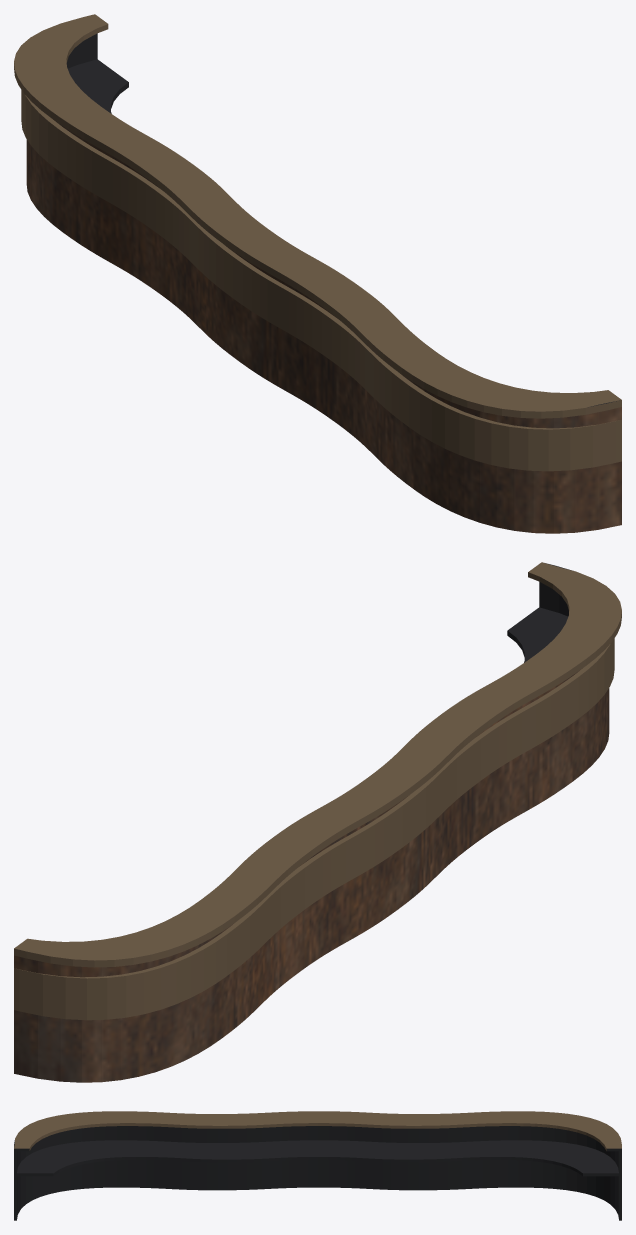
Rendered from ReceptionDesk_ReceptionDeskBase.FBX.
3 views of the same model, one above another, from view 1: azimuth 30°, elevation 25°; view 2: azimuth 150°, elevation 25°; view 3: azimuth 270°, elevation 25° (orthographic). The views are drawn at different scales.
Parts seen in each view (by area): view 1: ReceptionDesk_ReceptionDeskBase; view 2: ReceptionDesk_ReceptionDeskBase; view 3: ReceptionDesk_ReceptionDeskBase.
Part boxes in pixels (left/top/right/bottom): ReceptionDesk_ReceptionDeskBase: left=14, top=14, right=621, bottom=533; ReceptionDesk_ReceptionDeskBase: left=14, top=562, right=621, bottom=1082; ReceptionDesk_ReceptionDeskBase: left=14, top=1111, right=621, bottom=1220.
Size of what is drawn, in the model's own units: 135 by 931 by 122.
